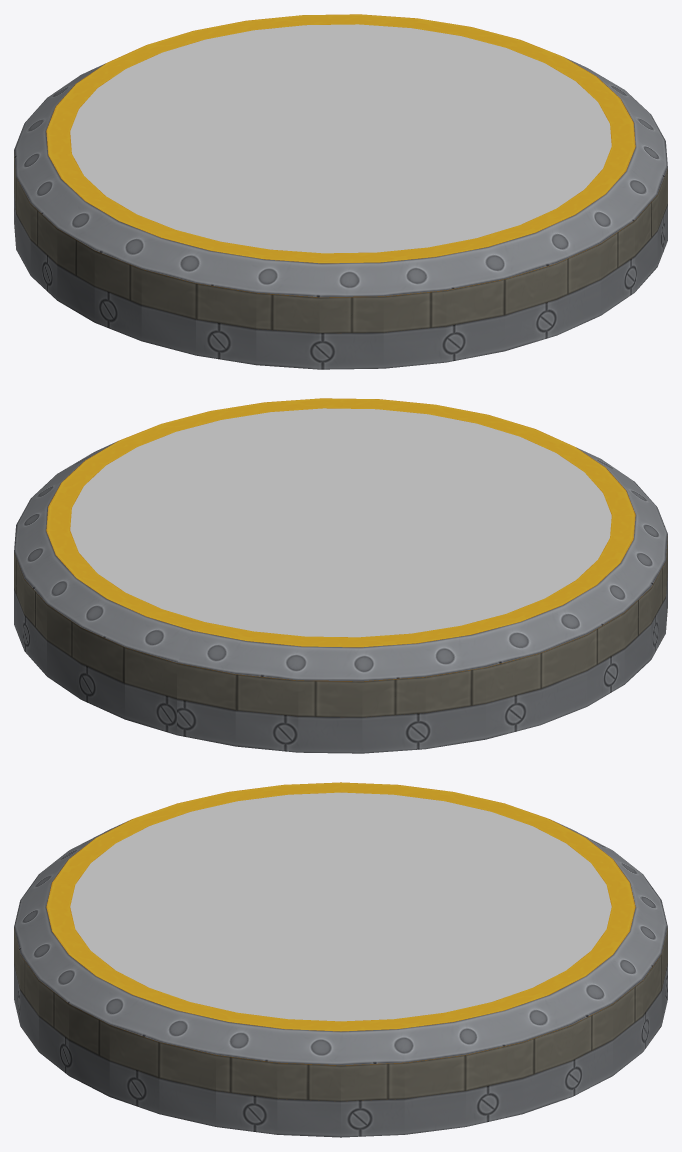
The model's file is env_packingstation_roundconcretebase.fbx.
3 views of the same model, one above another, from view 1: azimuth 30°, elevation 25°; view 2: azimuth 150°, elevation 25°; view 3: azimuth 270°, elevation 25° (orthographic).
Parts seen in each view (by area): view 1: env_packingstation_roundconcretebase; view 2: env_packingstation_roundconcretebase; view 3: env_packingstation_roundconcretebase.
Part boxes in pixels (left/top/right/bottom): env_packingstation_roundconcretebase: left=14, top=14, right=667, bottom=369; env_packingstation_roundconcretebase: left=14, top=398, right=667, bottom=753; env_packingstation_roundconcretebase: left=14, top=782, right=667, bottom=1137.
Size of the model in its own units: 62.16 by 9.69 by 62.16.
